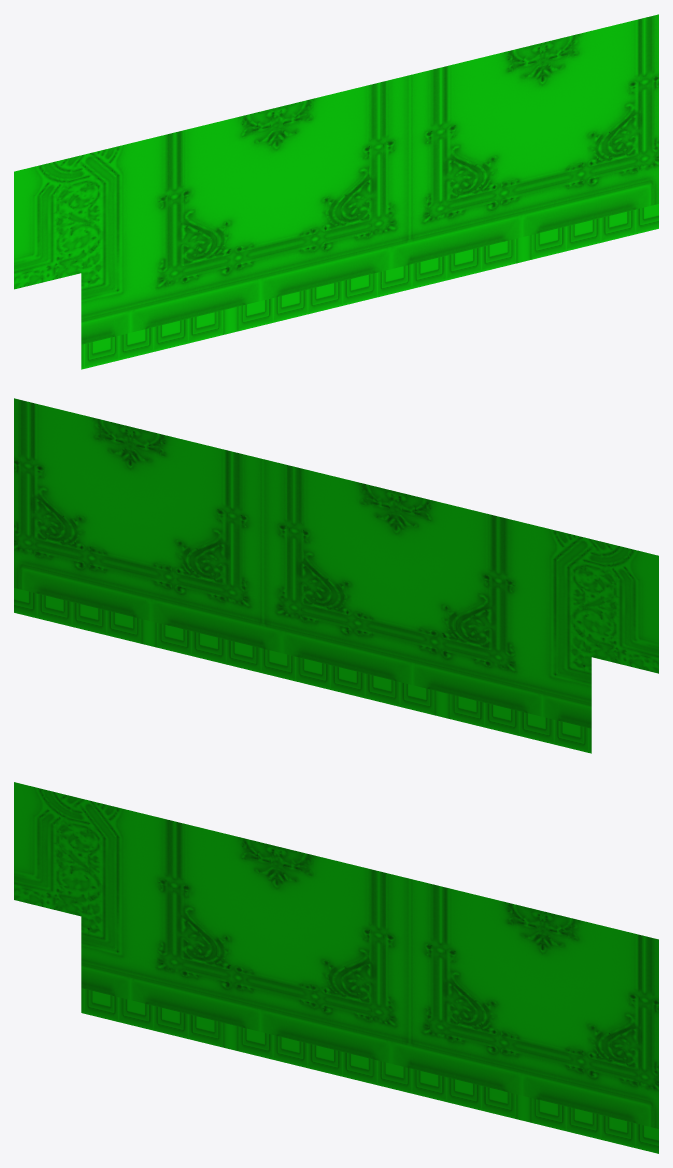
3 views of the same model, one above another, from view 1: azimuth 30°, elevation 25°; view 2: azimuth 150°, elevation 25°; view 3: azimuth 330°, elevation 25° (orthographic).
Parts seen in each view (by area): view 1: 복도 벽; view 2: 복도 벽; view 3: 복도 벽.
Boxes of the visible parts, bbox=[...] form: 복도 벽: bbox=[14, 14, 658, 369]; 복도 벽: bbox=[14, 398, 658, 753]; 복도 벽: bbox=[14, 782, 658, 1153].
Size of the model in its own units: 623 by 198 by 0.1882.
